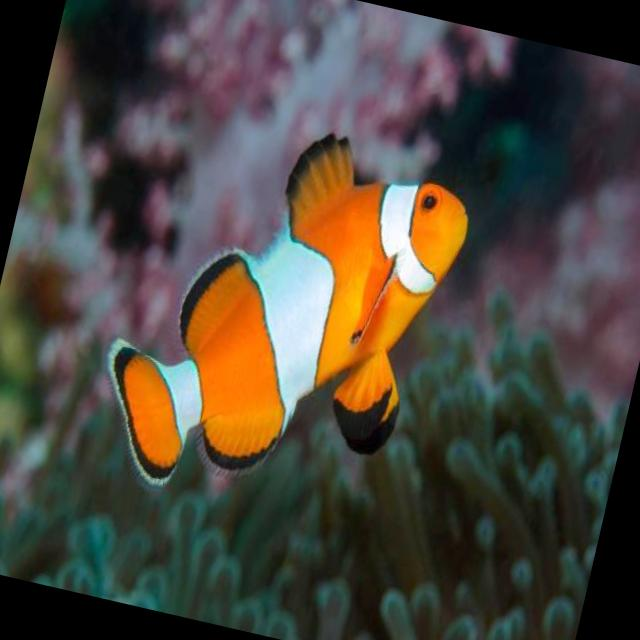ClownFish: (82, 94, 483, 540)
